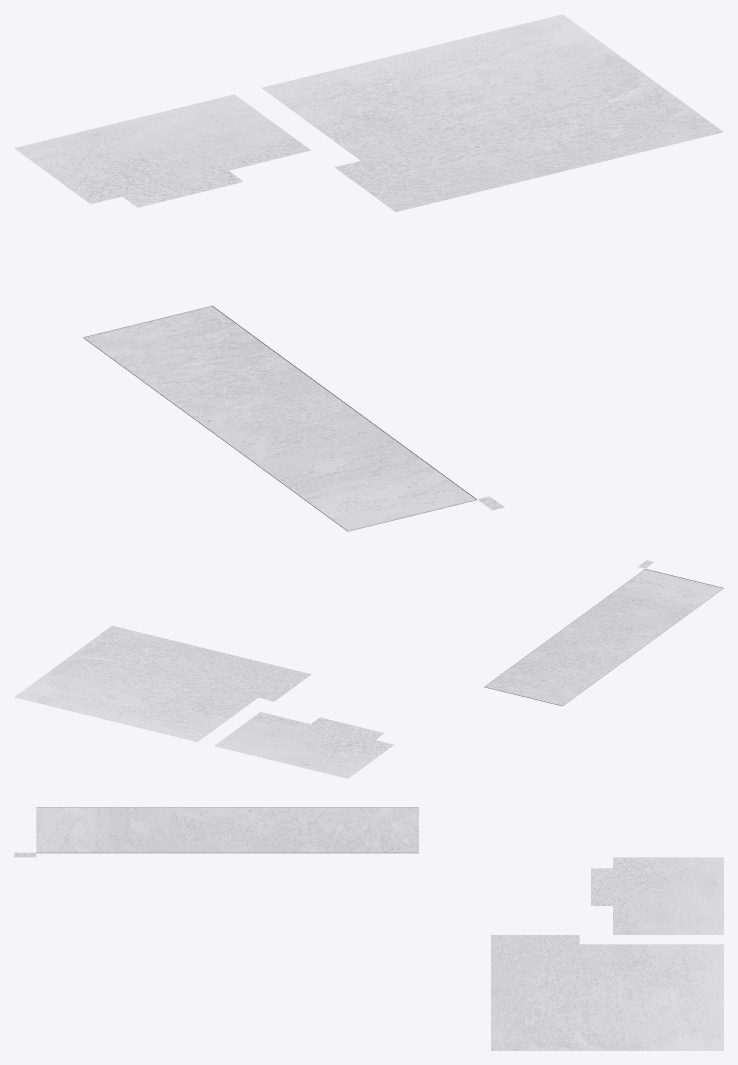
File: javanovaDefoult3.gltf
3 renders of one model, top to bottom at view 1: azimuth 30°, elevation 25°; view 2: azimuth 150°, elevation 25°; view 3: azimuth 270°, elevation 25°, orthographic. The views are drawn at different scales.
Parts seen in each view (by area): view 1: javanovaDefoult3; view 2: javanovaDefoult3; view 3: javanovaDefoult3.
Boxes of the visible parts, x1,y1,x2,y2 form: javanovaDefoult3: [14, 14, 723, 531]; javanovaDefoult3: [14, 560, 723, 778]; javanovaDefoult3: [14, 807, 723, 1050].
Bounding box in the file's own units: 3.64 × 0.00398 × 4.48.
1 material, 1 textured.
